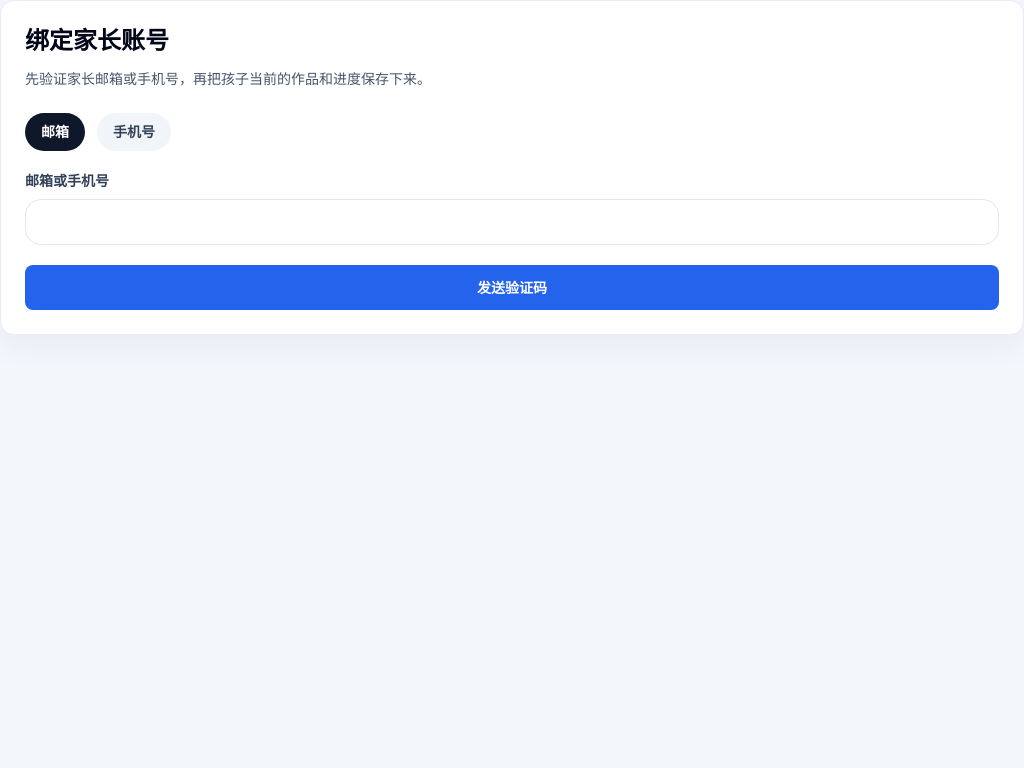
it: BindAccountForm › does not clear local progress when the bind-account API fails
Type "family@example.com" into the field labelled "邮箱或手机号" at (512, 222), box [25,199,999,245]
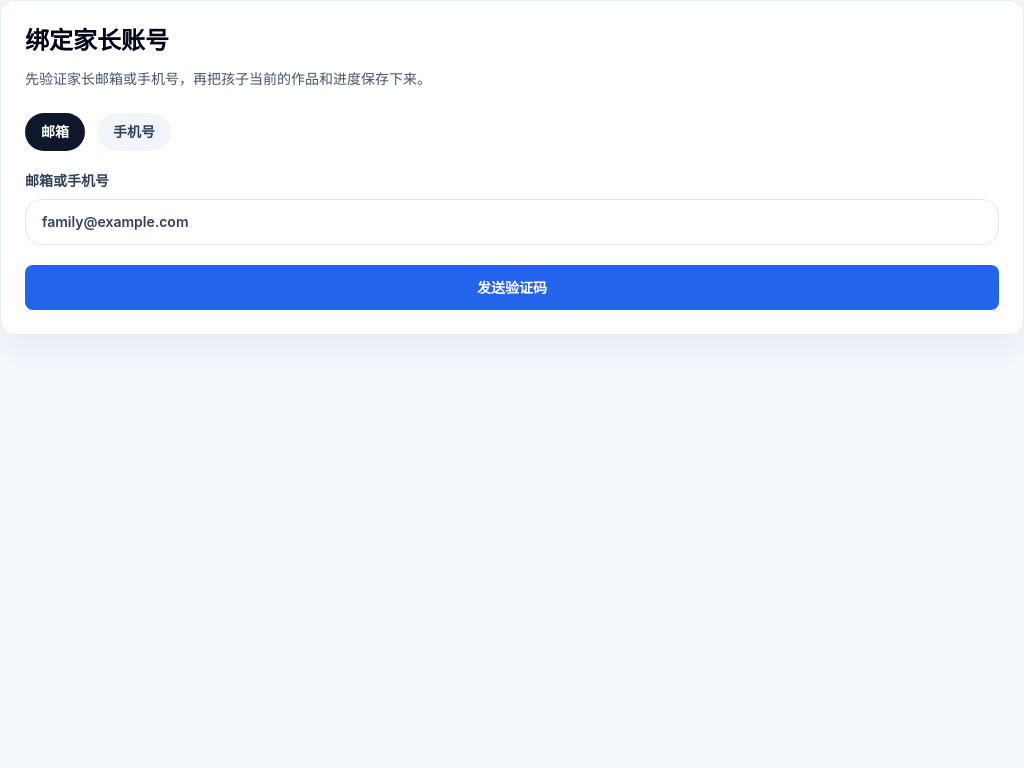
Click the button "发送验证码" at (512, 288), box [25,265,999,310]
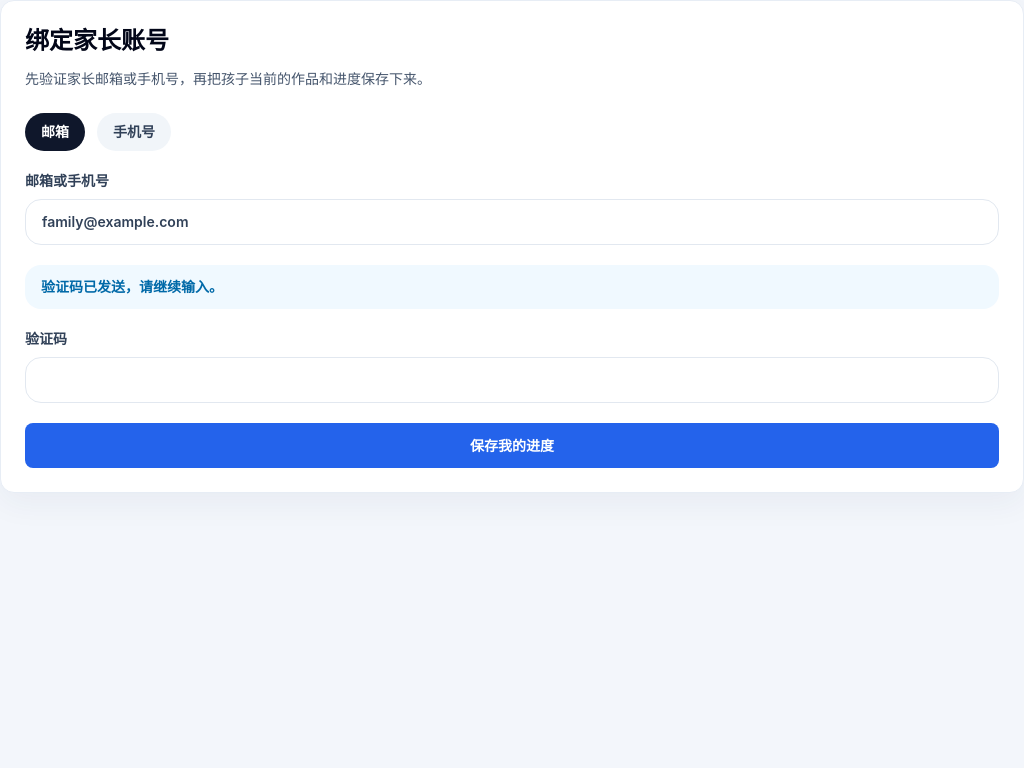
Type "123456" into the field labelled "验证码" at (512, 380), box [25,357,999,403]
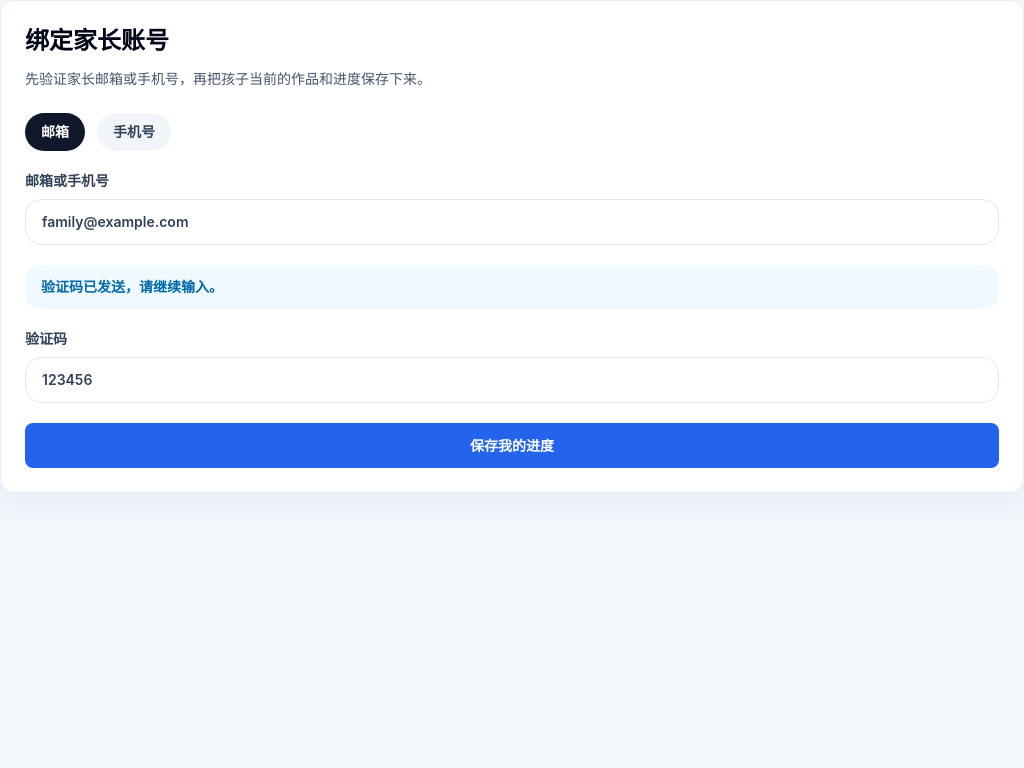
Click the button "保存我的进度" at (512, 446), box [25,423,999,468]
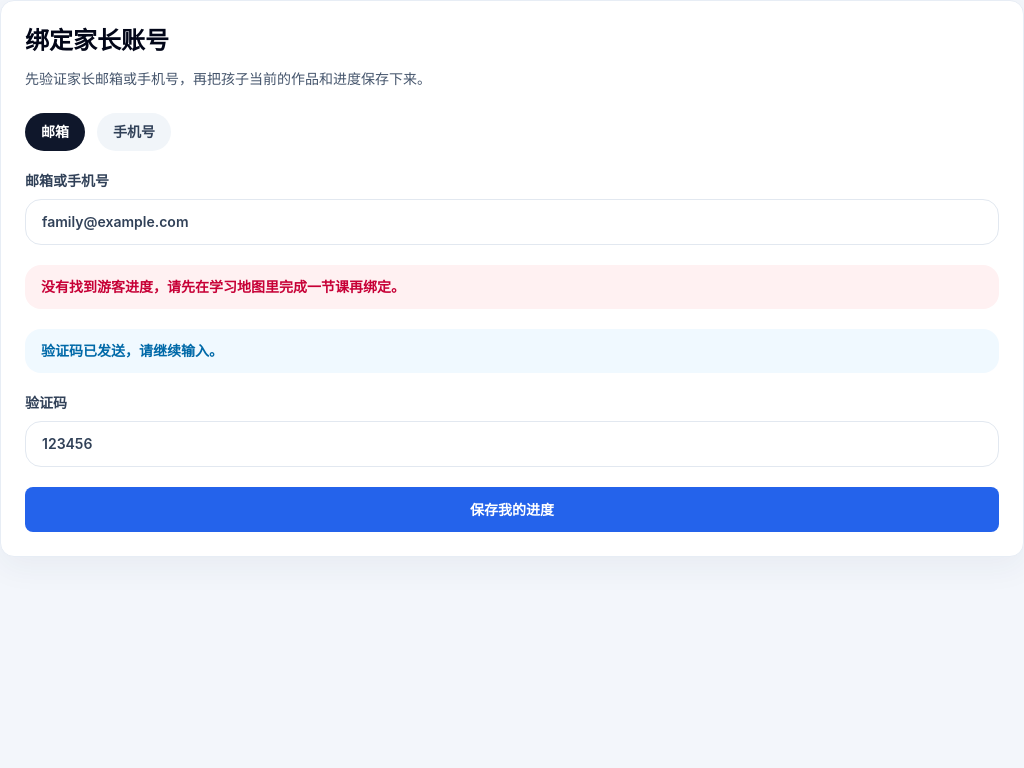
expect the text with test id "bind-account-error" shows "没有找到游客进度": met, box [41,278,405,295]
